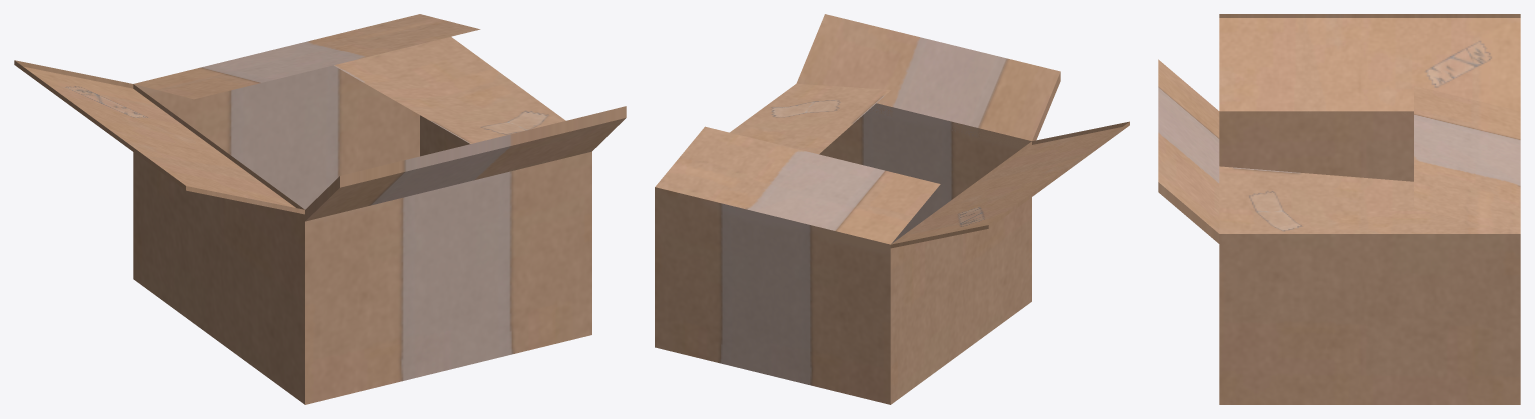
Rendered from cartons4.fbx.
3 renders of one model, left to right at view 1: azimuth 30°, elevation 25°; view 2: azimuth 150°, elevation 25°; view 3: azimuth 270°, elevation 25°, orthographic. The views are drawn at different scales.
Parts seen in each view (by area): view 1: pCube4; view 2: pCube4; view 3: pCube4.
Boxes of the visible parts, x1,y1,x2,y2 form: pCube4: (14,14,626,404); pCube4: (655,14,1129,404); pCube4: (1158,14,1520,404).
Bounding box in the file's own units: 2.18 × 1.3 × 1.92.
